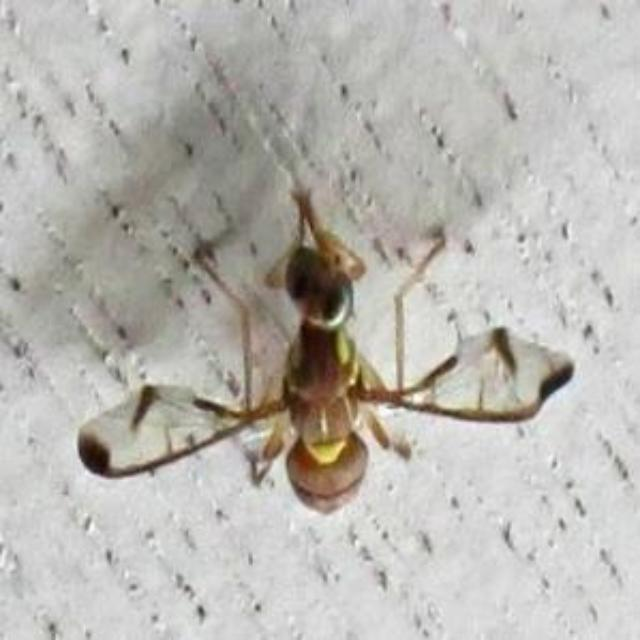melon fly: (92, 170, 590, 554)
